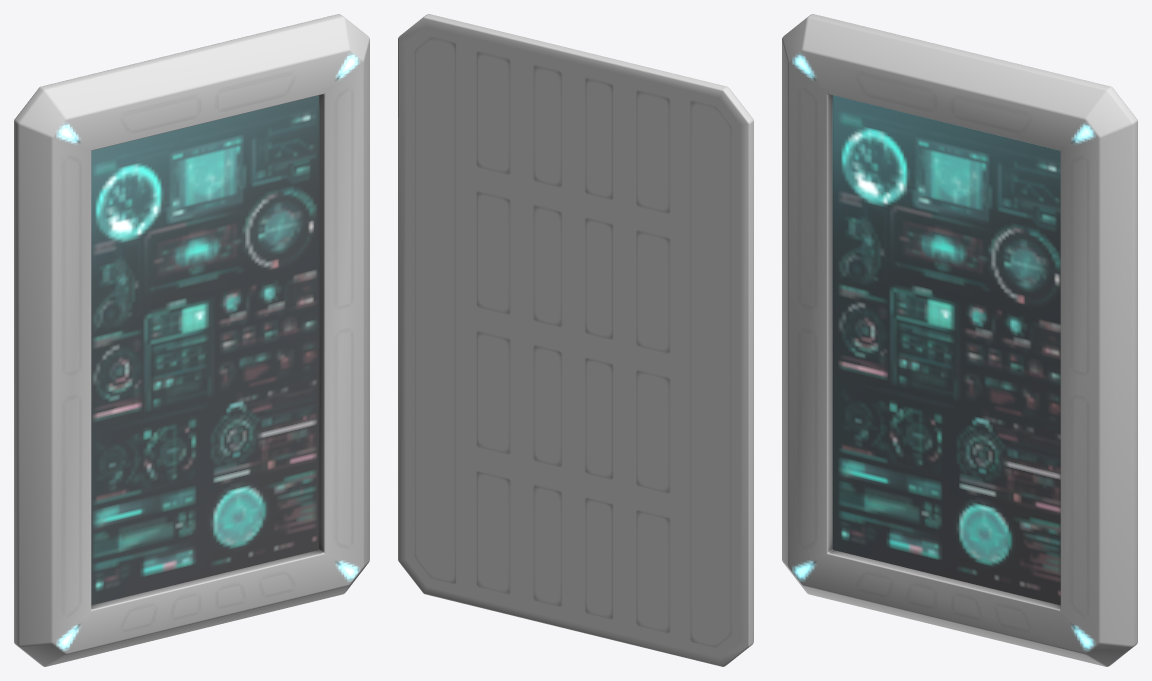
Rendered from Display01_2.FBX.
3 views of the same model, side by side, from view 1: azimuth 30°, elevation 25°; view 2: azimuth 150°, elevation 25°; view 3: azimuth 330°, elevation 25° (orthographic).
Visible parts, largest first — view 1: Display01_2; view 2: Display01_2; view 3: Display01_2.
Boxes of the visible parts, bbox=[...] form: Display01_2: bbox=[14, 14, 369, 666]; Display01_2: bbox=[398, 14, 753, 666]; Display01_2: bbox=[782, 14, 1137, 666].
Size of what is drawn, in the model's own units: 0.501 by 0.7859 by 0.0463.
